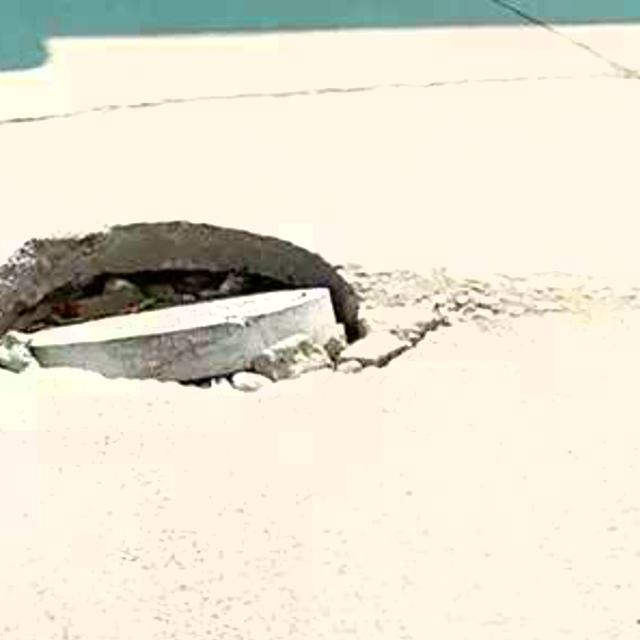circle: (0, 195, 503, 442)
